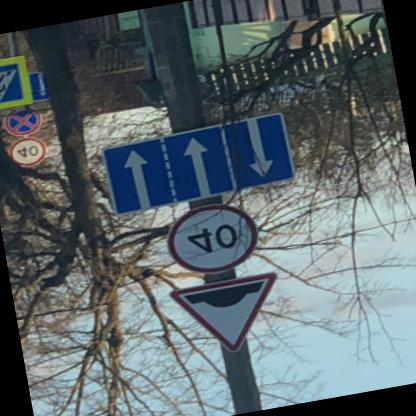crosswalk: (0, 62, 24, 109)
speedlimit: (158, 199, 260, 280), (7, 140, 45, 170)
